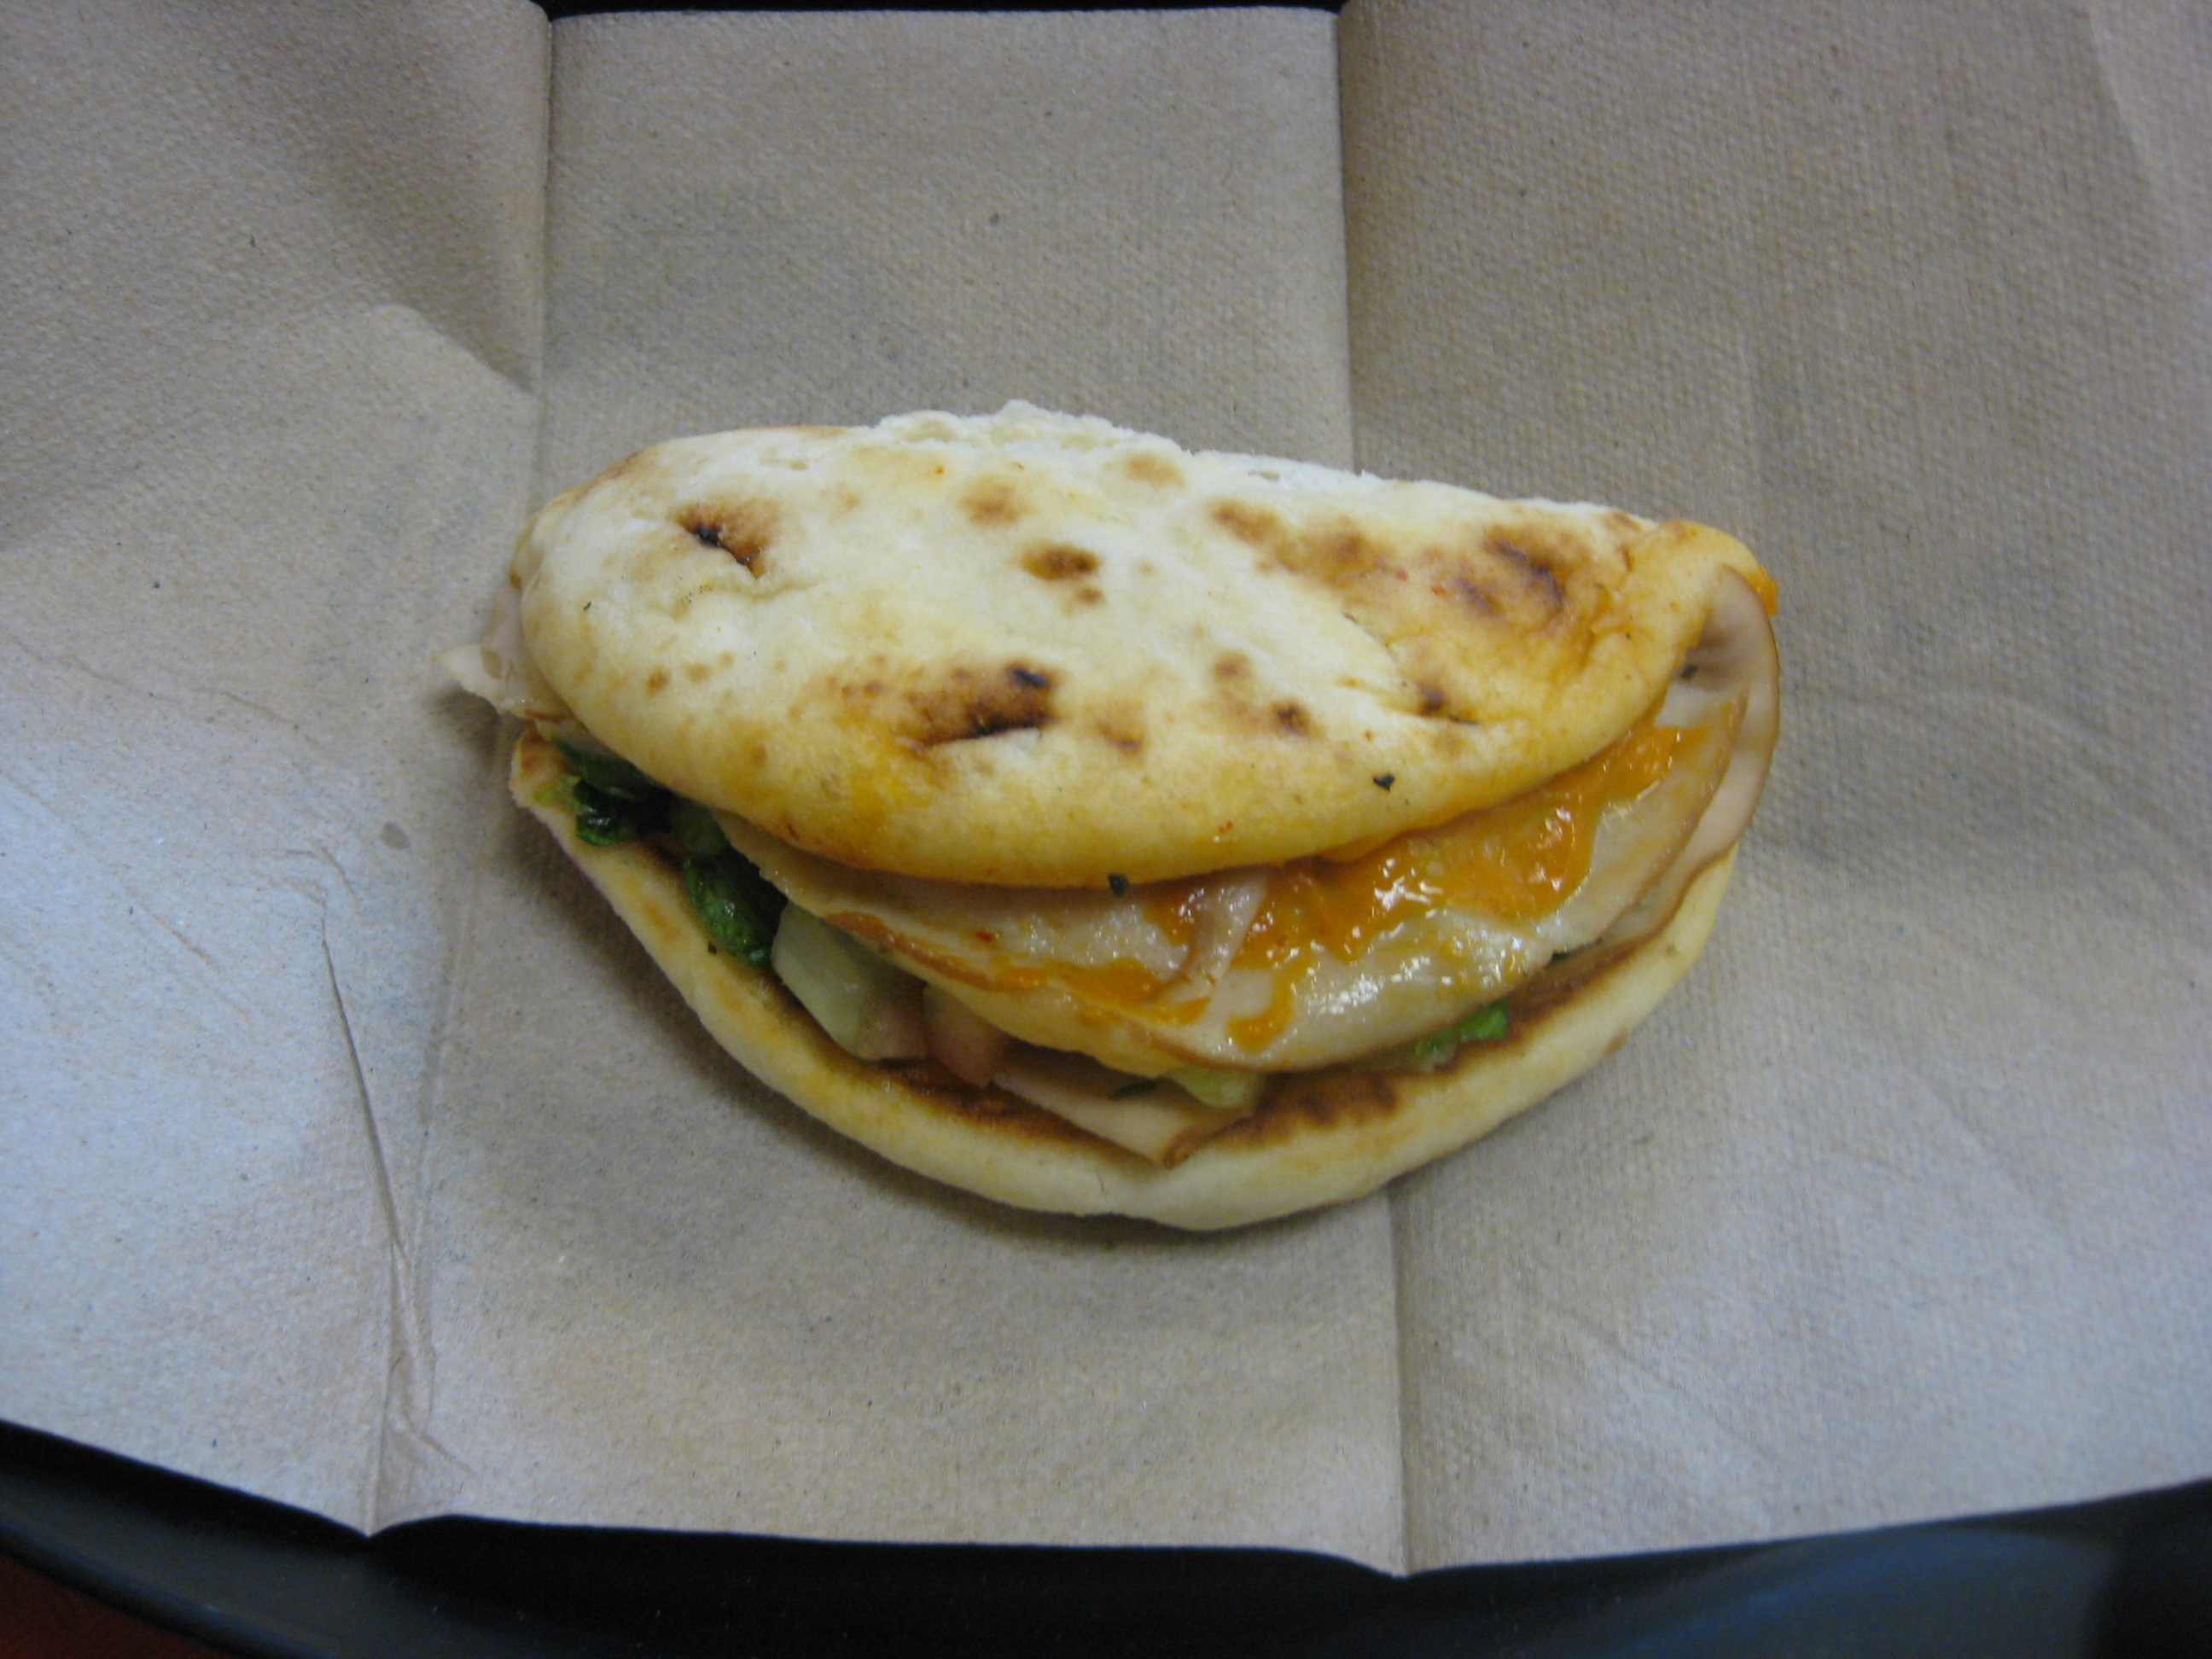taco: (456, 262, 1956, 1342)
